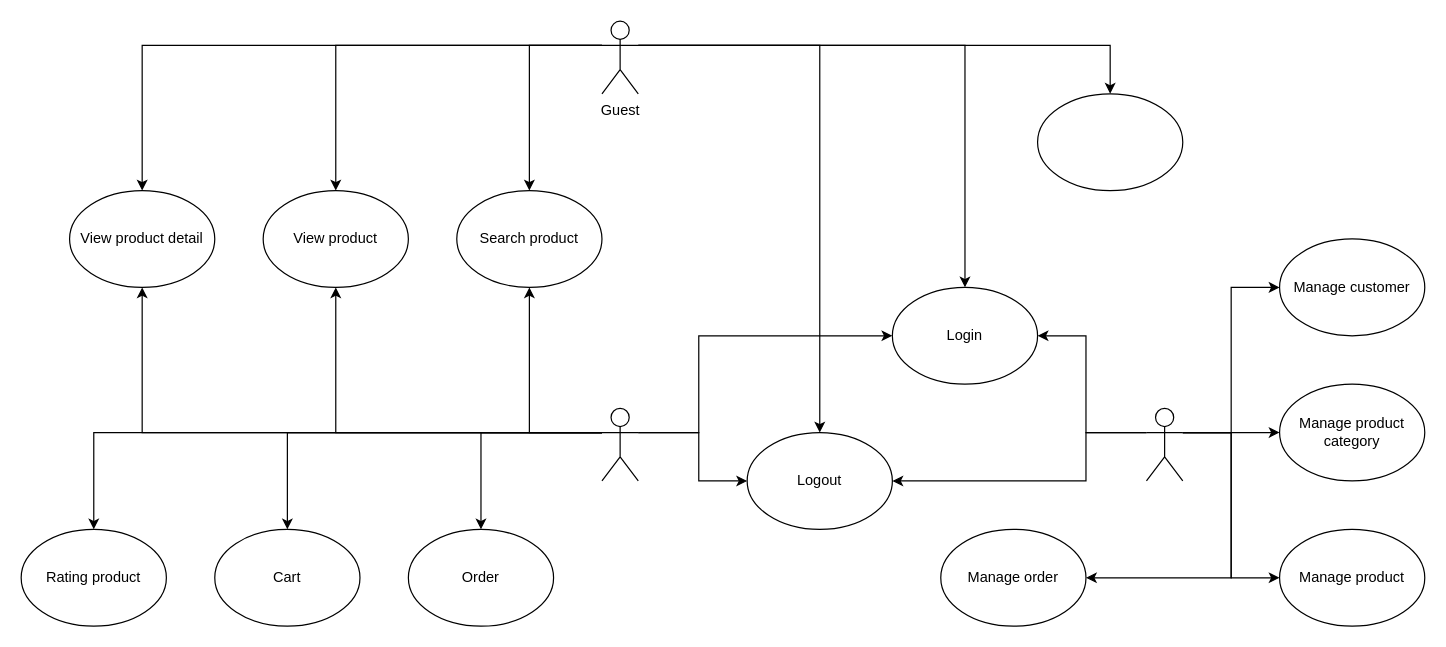
The diagram is 1446 pixels wide and 647 high, and some of its shapes have lost their labels. Each missing label, with the box of its shape:
Admin: (1145, 407, 1183, 481)
Customer: (601, 407, 638, 481)
Register: (1036, 93, 1183, 191)
